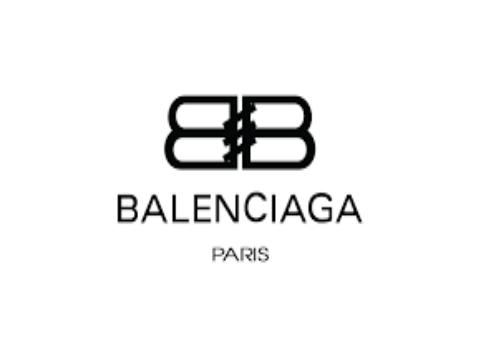BALENCIAGA: (160, 94, 320, 170), (112, 186, 364, 227)
